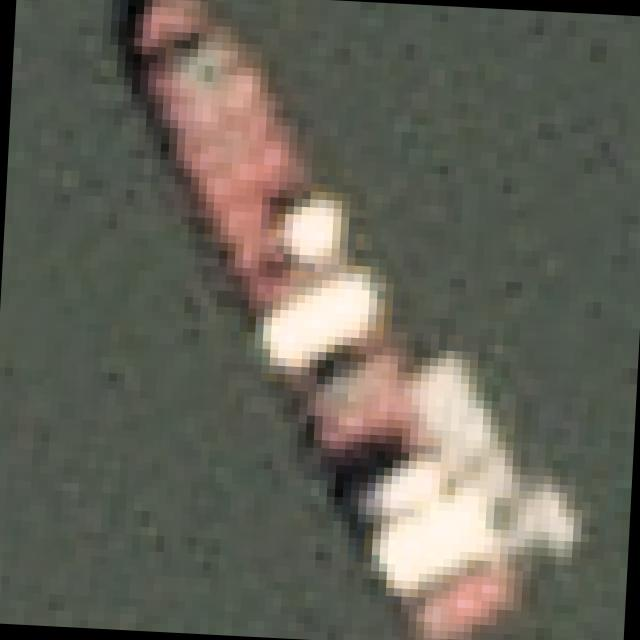ship: (70, 0, 617, 640)
